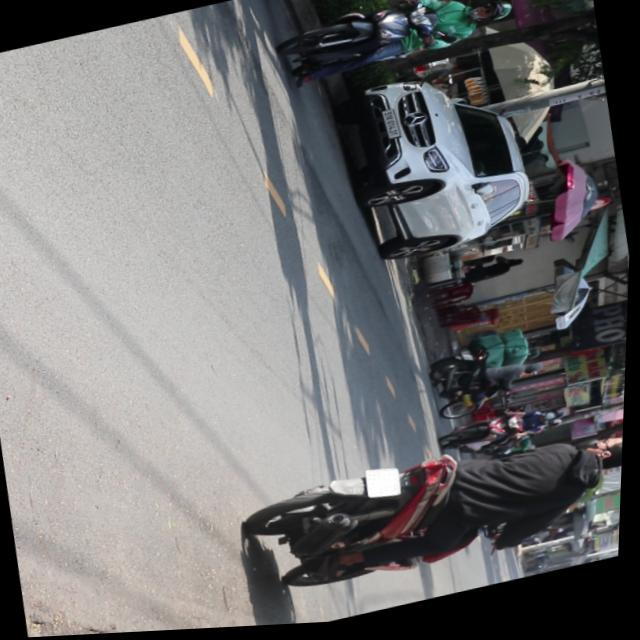helmet: (469, 0, 515, 30)
licenseplate: (237, 410, 627, 612), (274, 0, 521, 93)
motorcyclist: (584, 435, 627, 483)
nohelmet: (369, 467, 407, 503)
